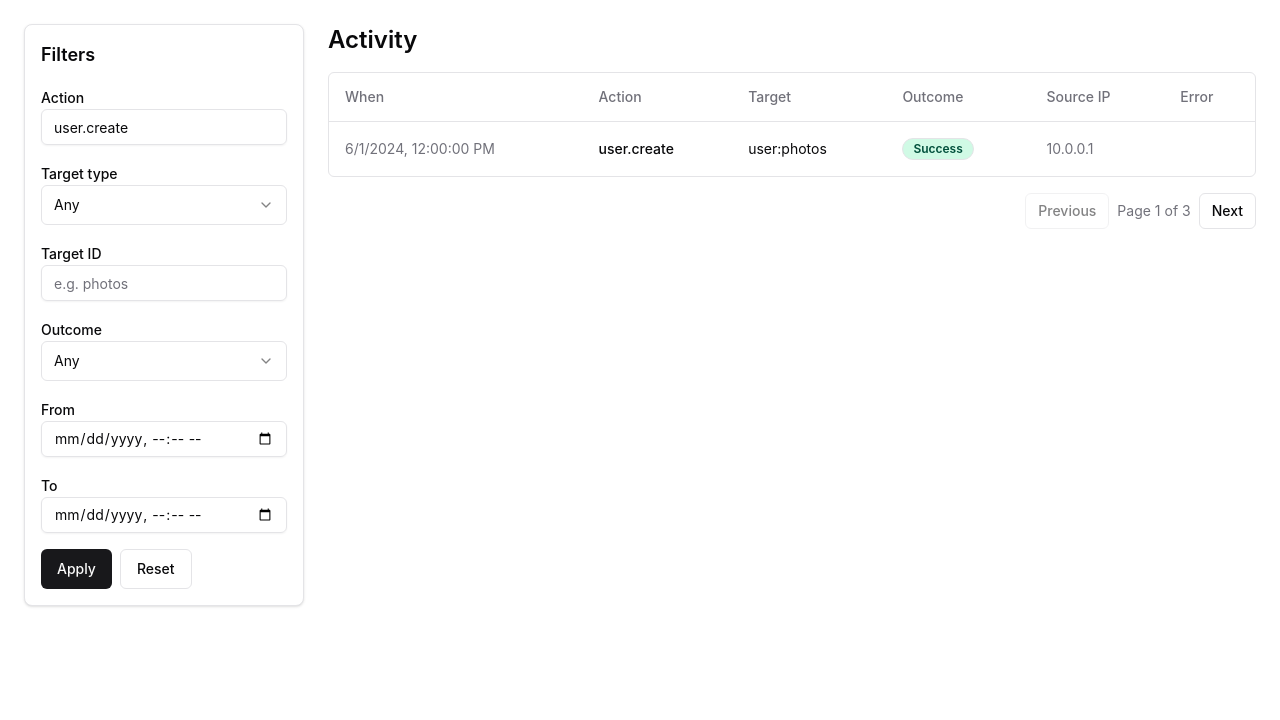
ActivityFeedPage › Reset clears all filters from URL
Expected: the text "user.create" is shown, [582,121,732,176]
Click the button "Reset" at (156, 569), box [120,549,192,589]
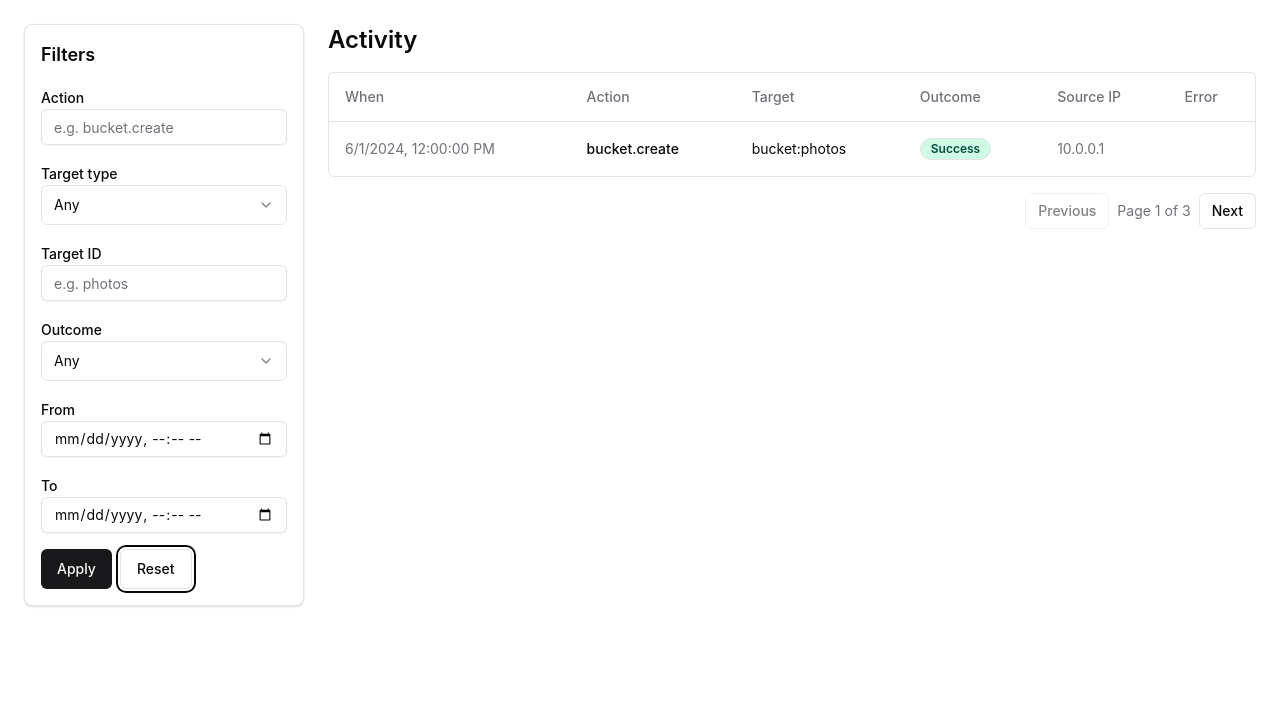
Expected: the text "bucket.create" is shown, [571,121,736,176]
